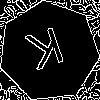K: (23, 26, 70, 80)
